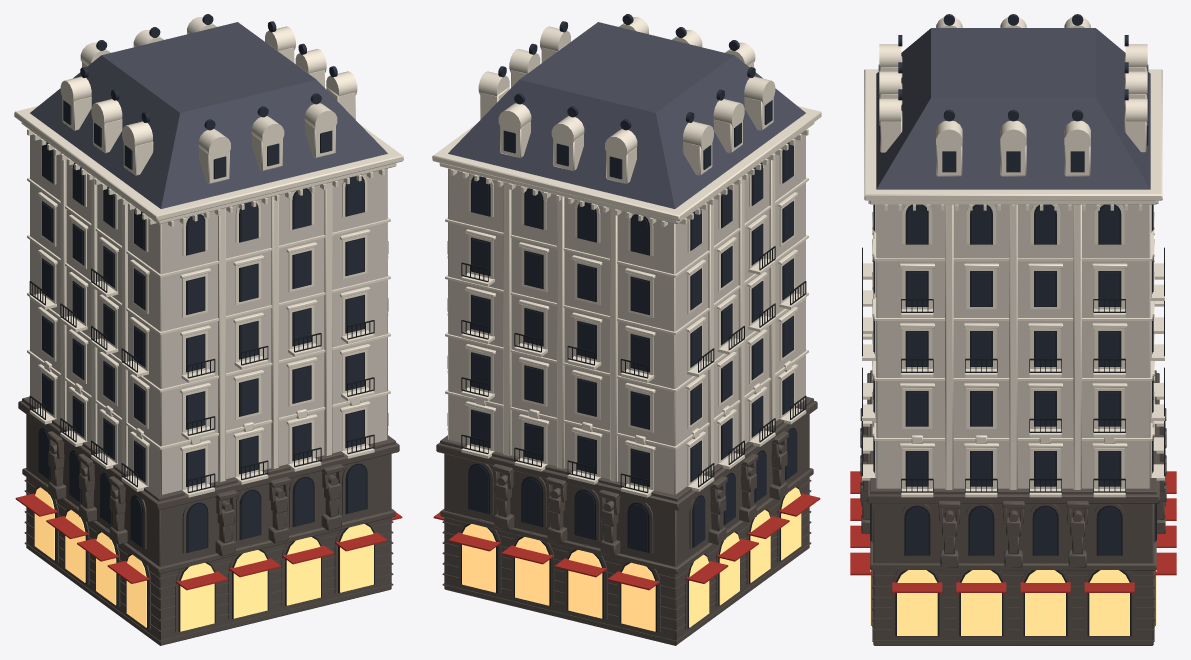
Rendered from building_pt_b.fbx.
The picture shows the model from 3 angles, left to right: view 1: azimuth 30°, elevation 25°; view 2: azimuth 150°, elevation 25°; view 3: azimuth 270°, elevation 25°; orthographic projection. The views are drawn at different scales.
Parts seen in each view (by area): view 1: building_pt_b; view 2: building_pt_b; view 3: building_pt_b.
Boxes of the visible parts, <box> form: building_pt_b: <box>14,14,403,645</box>; building_pt_b: <box>432,14,821,645</box>; building_pt_b: <box>850,14,1176,645</box>.
Size of the model in its own units: 16.3 by 28.88 by 16.3.
